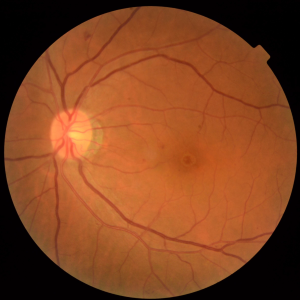retina_disease: (32, 95, 242, 213)
